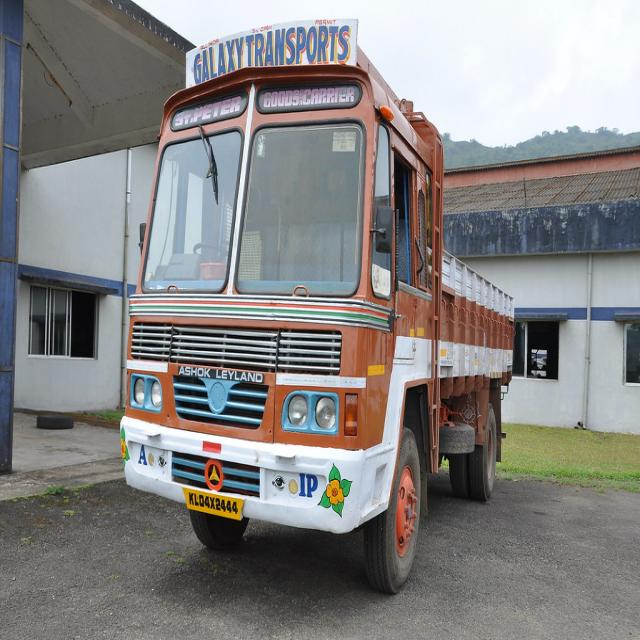Truck: (128, 45, 511, 585)
